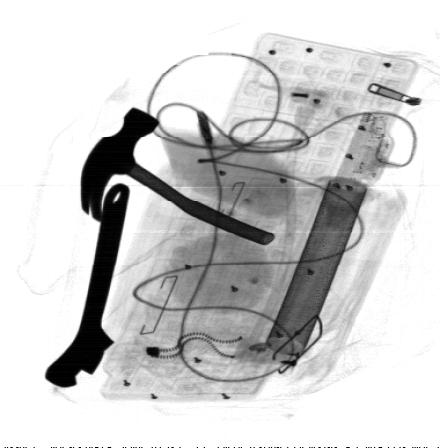Hammer: (80, 107, 278, 247)
Wrench: (44, 182, 131, 389)
